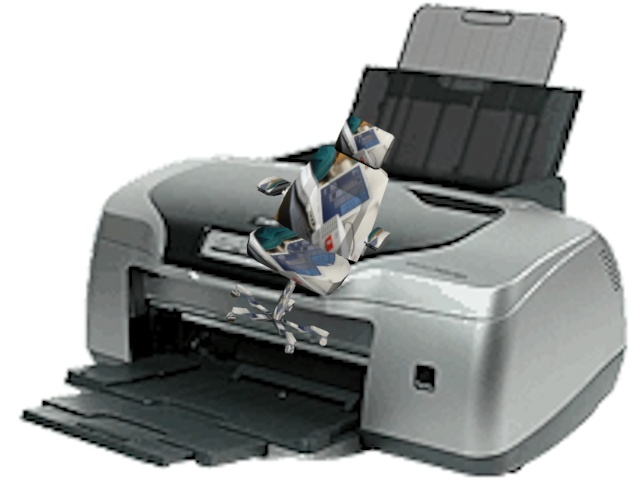desk_chair: (225, 112, 400, 360)
